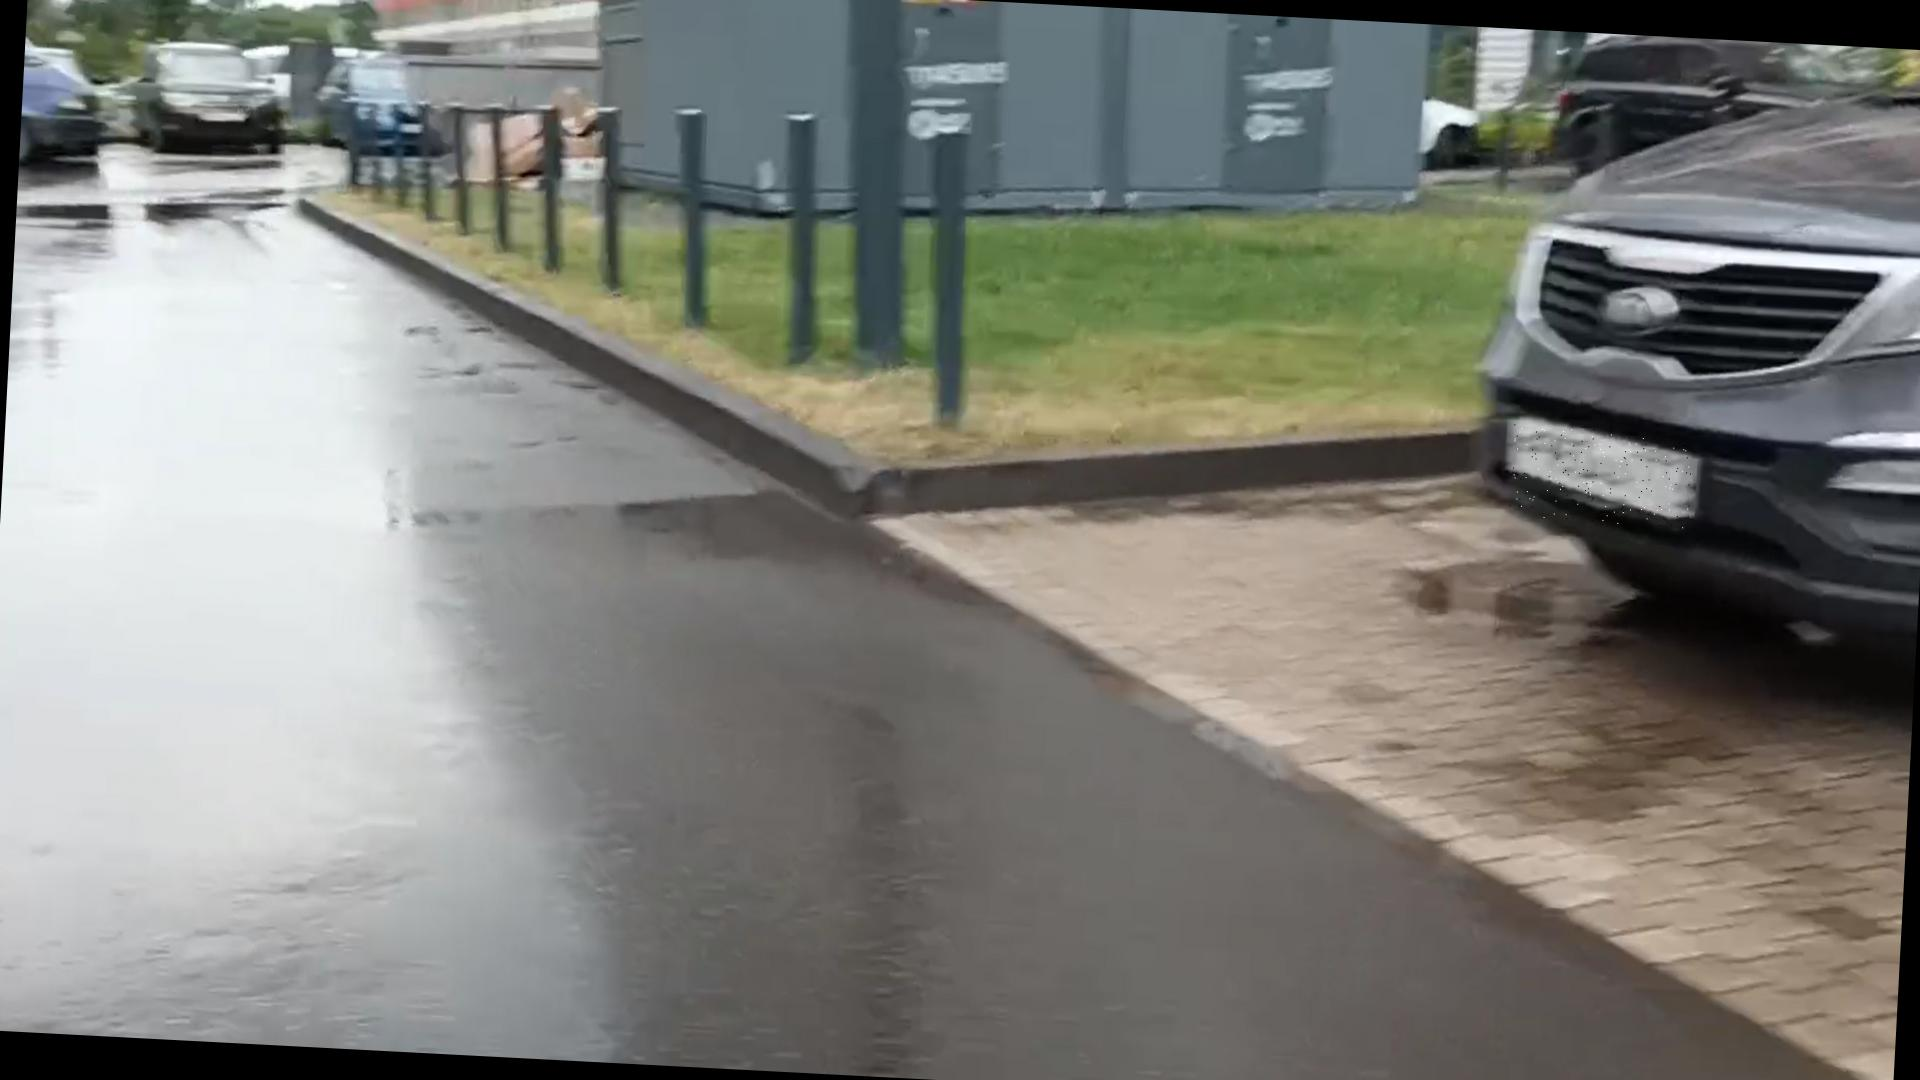plate: (1511, 426, 1695, 530)
